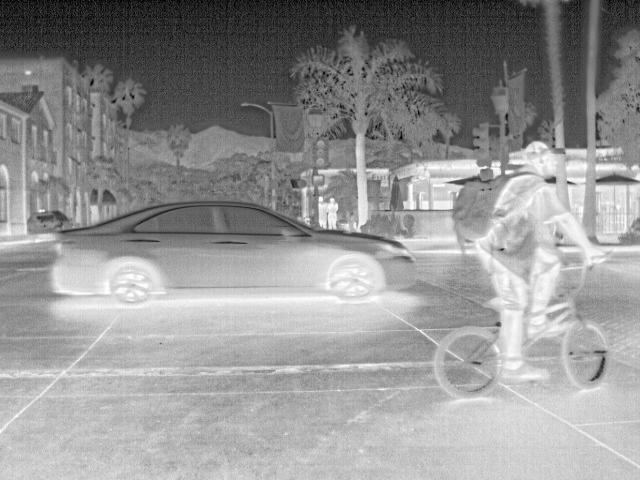car: (44, 198, 418, 306), (24, 210, 76, 241)
person: (469, 138, 605, 382), (324, 195, 341, 230), (315, 195, 329, 231)
